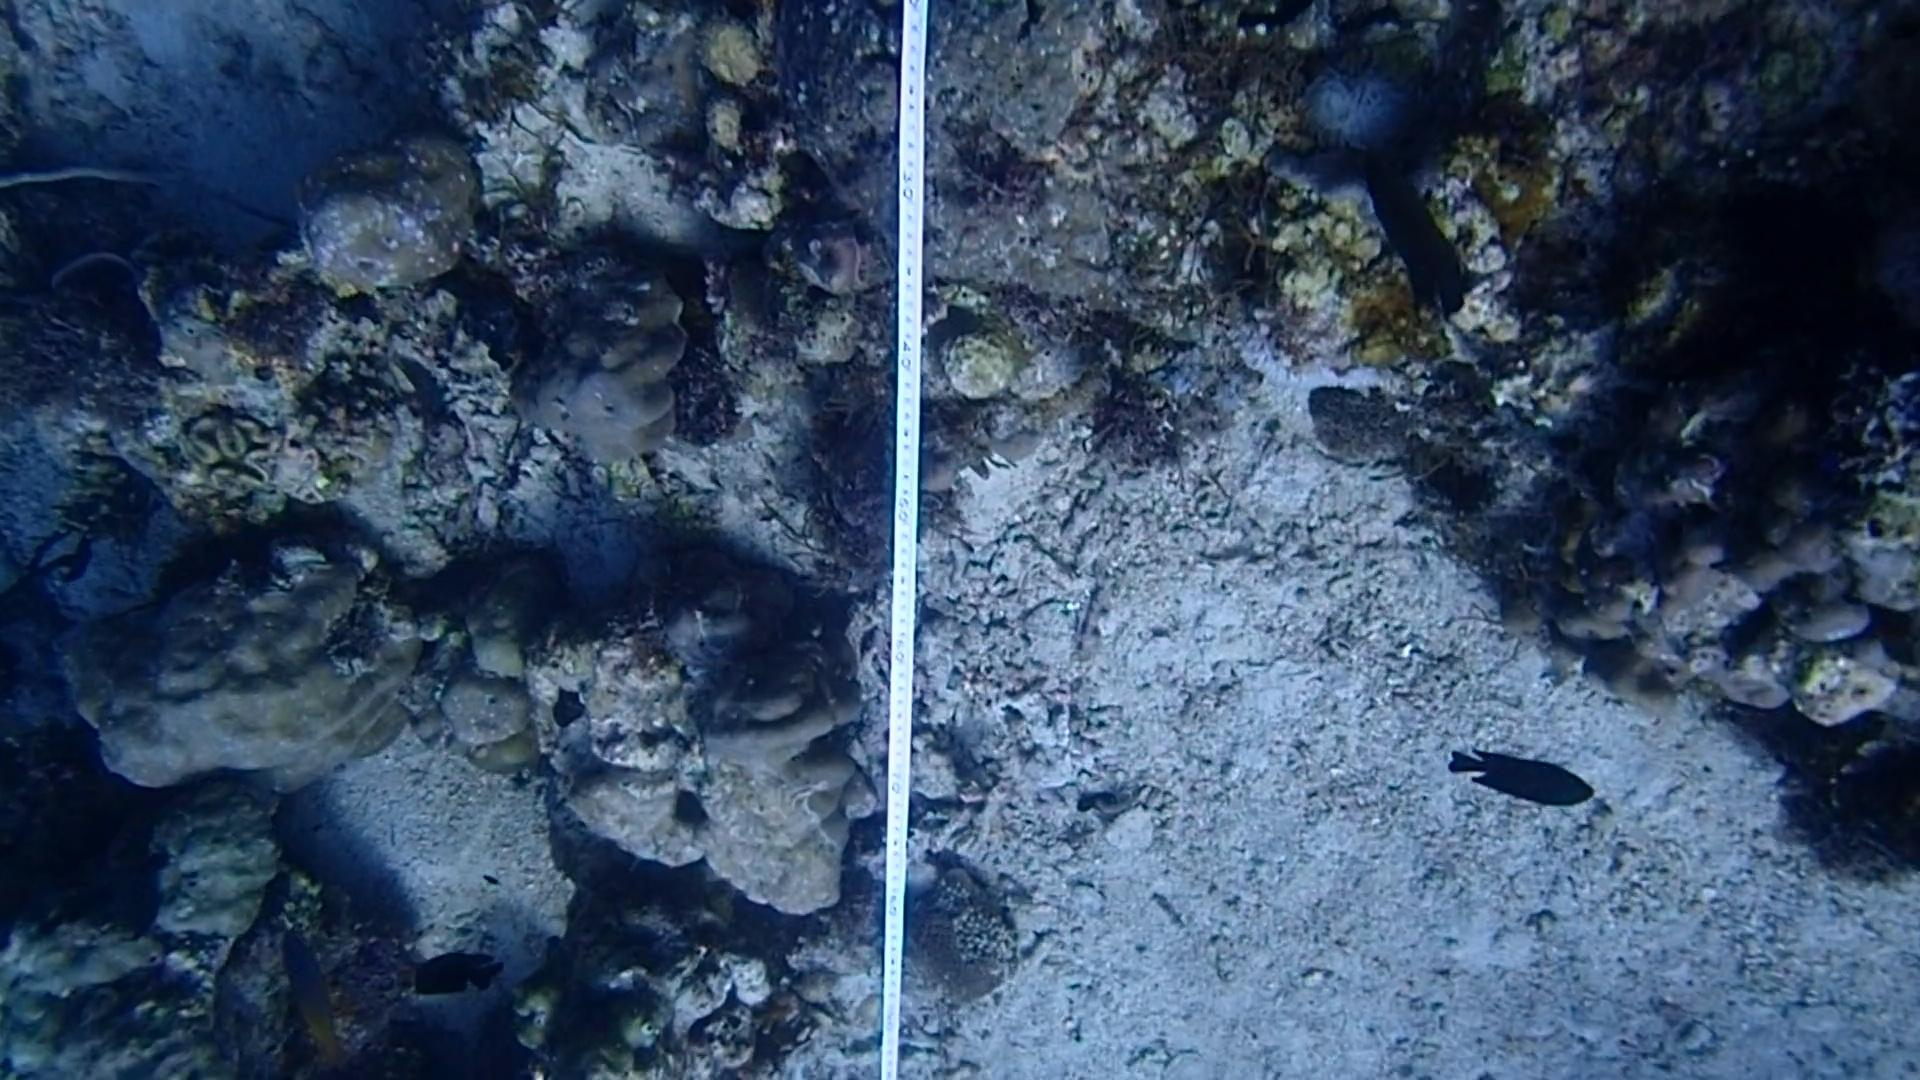Dark Fish: (1353, 158, 1487, 319), (1443, 723, 1611, 828), (407, 936, 509, 1018)
Half Blue - Half Yellow: (265, 910, 355, 1071)
